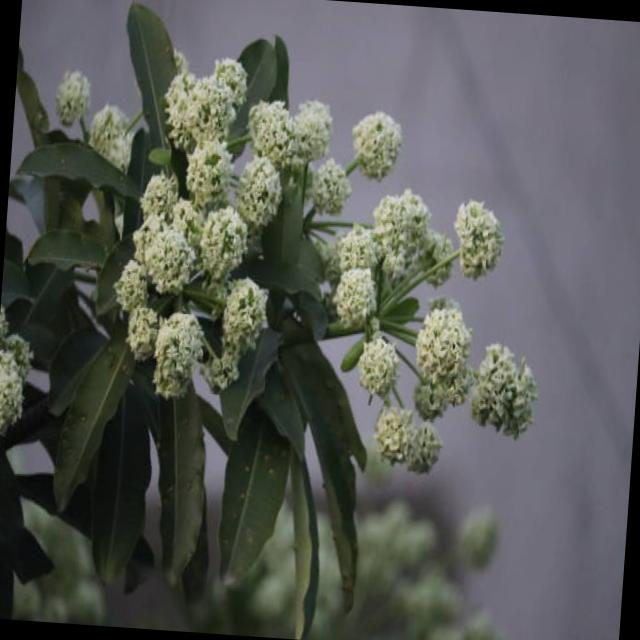Indian Pulai: (0, 54, 349, 581), (280, 179, 560, 499), (152, 54, 460, 269), (110, 136, 294, 410)
